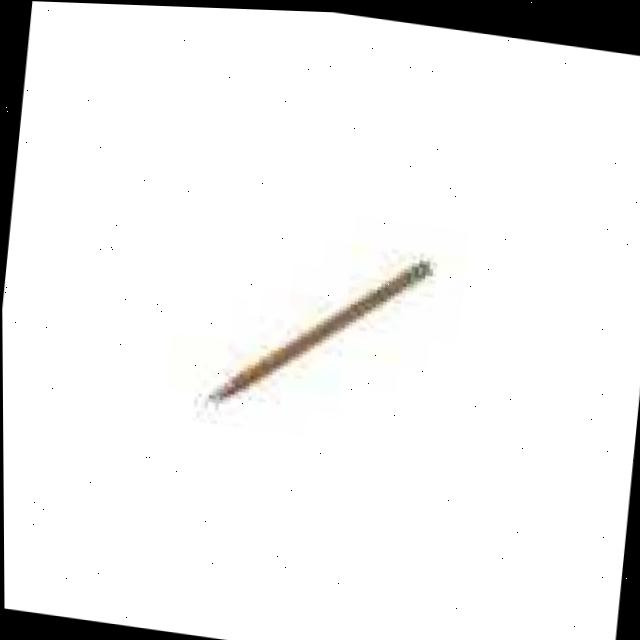pencil: (171, 233, 483, 438)
